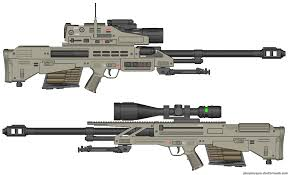gun: (1, 10, 286, 99), (2, 102, 286, 170)
